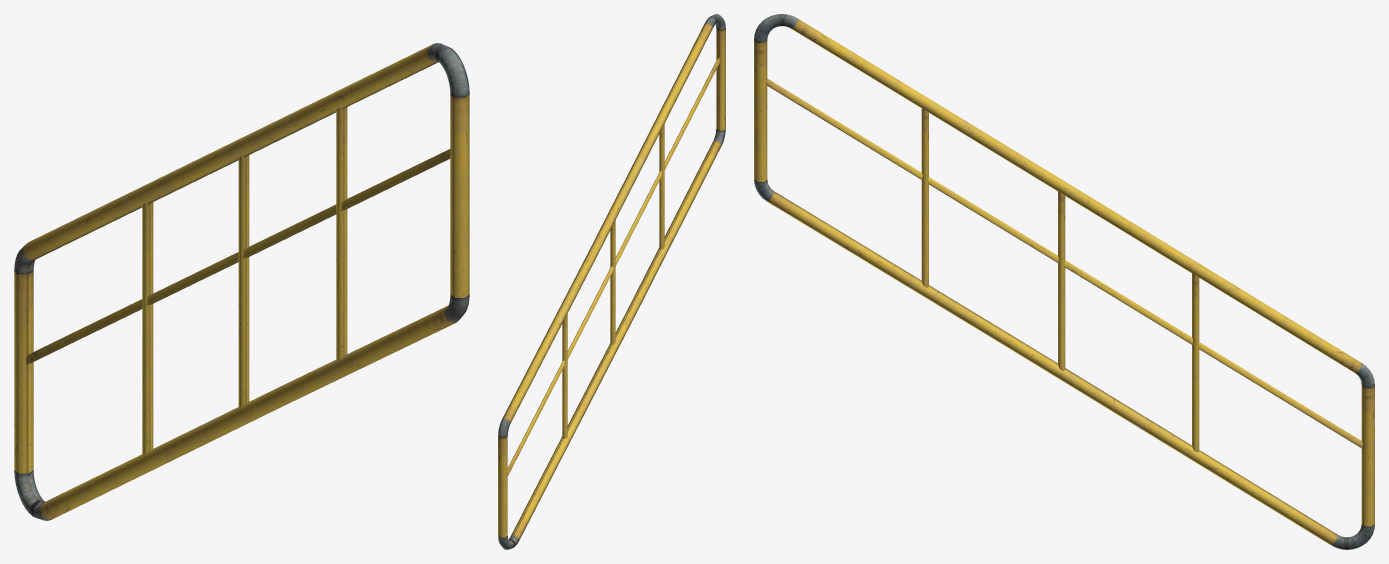
Rendered from Railing_13.fbx.
3 renders of one model, left to right at view 1: azimuth 30°, elevation 25°; view 2: azimuth 150°, elevation 25°; view 3: azimuth 270°, elevation 25°, orthographic. The views are drawn at different scales.
Visible parts, largest first — view 1: Railing_13; view 2: Railing_13; view 3: Railing_13.
Part boxes in pixels (x1,y1,x2,y2): Railing_13: [14, 43, 469, 520]; Railing_13: [498, 14, 725, 549]; Railing_13: [754, 14, 1374, 549].
Size of the model in its own units: 5.9 by 267 by 281.
